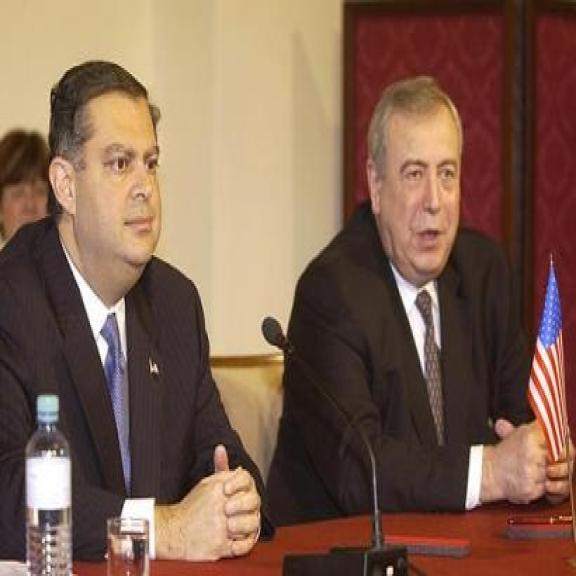face: (48, 97, 166, 269), (369, 121, 466, 284), (2, 165, 50, 238)
